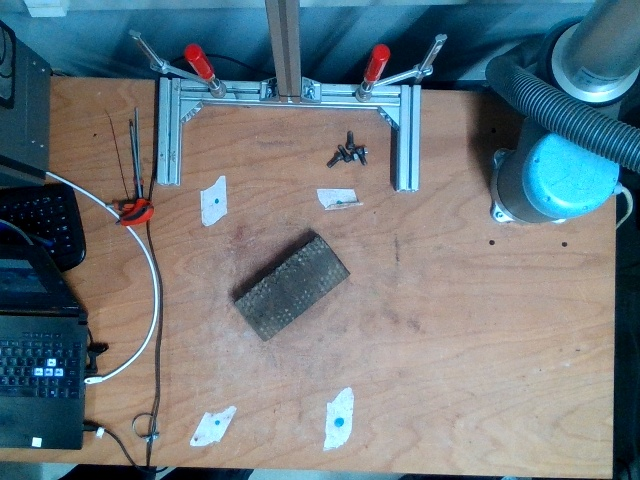brick: (233, 236, 350, 343)
